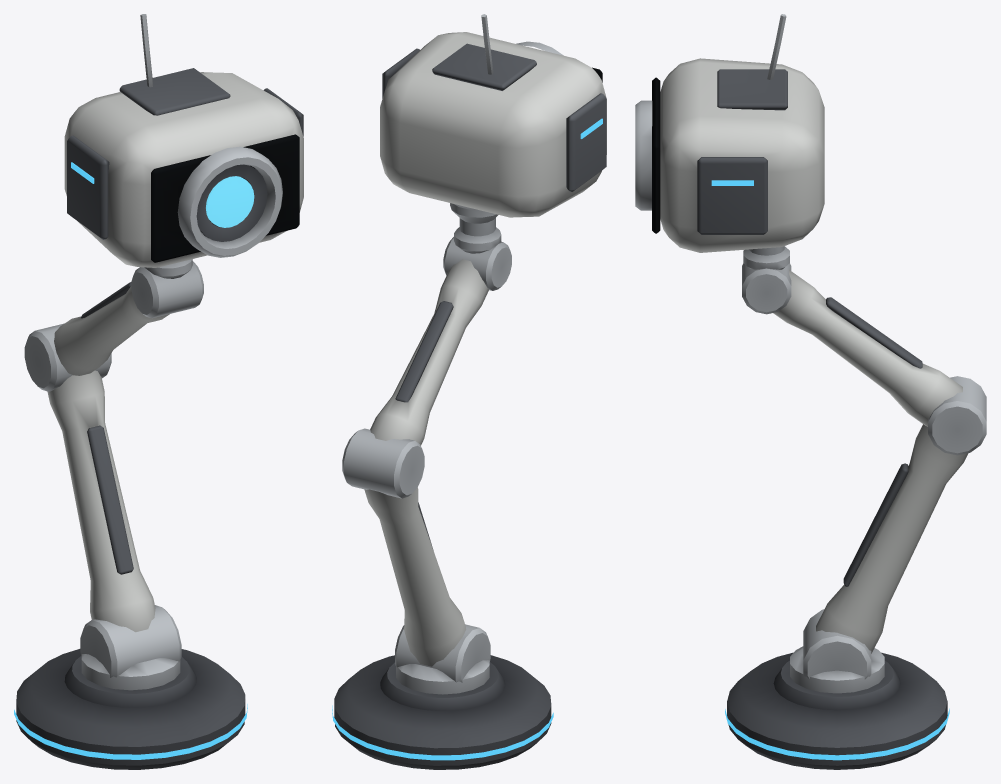
Rendered from aeon.60a7ab6d.glb.
3 views of the same model, side by side, from view 1: azimuth 30°, elevation 25°; view 2: azimuth 150°, elevation 25°; view 3: azimuth 270°, elevation 25° (orthographic). The views are drawn at different scales.
Parts seen in each view (by area): view 1: head, aeon, arm_lower, arm_upper, eye, neck; view 2: head, aeon, arm_upper, arm_lower, neck; view 3: head, aeon, arm_lower, arm_upper, neck.
Part boxes in pixels (left/top/right/bottom): head: left=64, top=14, right=303, bottom=267; aeon: left=14, top=649, right=247, bottom=769; arm_lower: left=47, top=370, right=181, bottom=677; arm_upper: left=24, top=261, right=203, bottom=391; eye: left=206, top=176, right=254, bottom=227; neck: left=144, top=259, right=192, bottom=278; head: left=380, top=14, right=606, bottom=217; aeon: left=332, top=655, right=553, bottom=769; arm_upper: left=342, top=237, right=511, bottom=498; arm_lower: left=364, top=487, right=490, bottom=682; neck: left=450, top=203, right=501, bottom=253; head: left=635, top=14, right=824, bottom=252; aeon: left=725, top=646, right=949, bottom=769; arm_lower: left=803, top=424, right=968, bottom=679; arm_upper: left=742, top=263, right=986, bottom=455; neck: left=743, top=246, right=789, bottom=269.
Bounding box in the file's own units: 0.1619 × 0.5504 × 0.2487.
